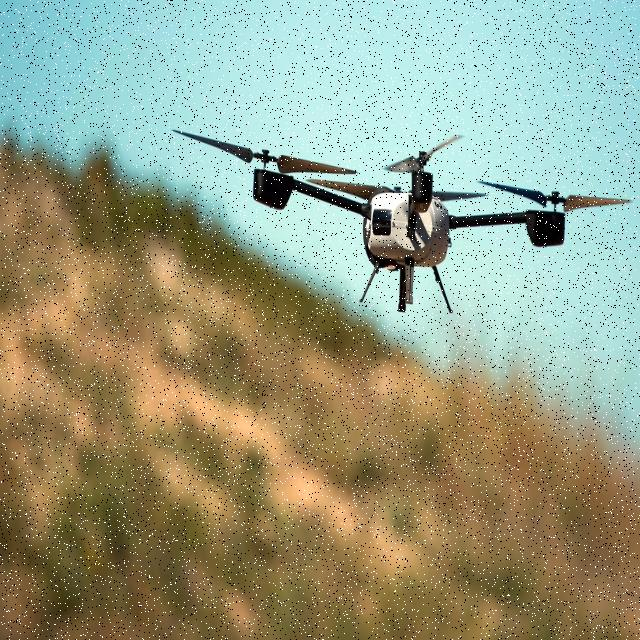UAV: (252, 132, 567, 313)
